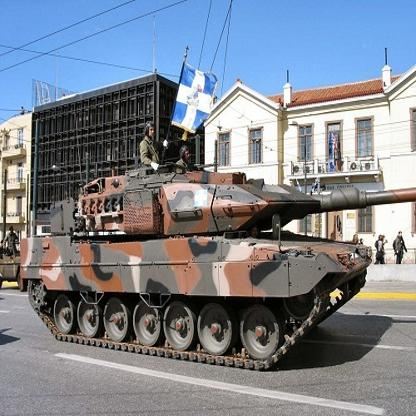Tank: (14, 123, 416, 374)
